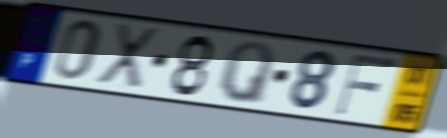0: (51, 17, 103, 84)
8: (288, 49, 338, 112), (170, 33, 214, 97)
F: (332, 53, 401, 118)
Q: (216, 39, 277, 108)
X: (93, 21, 162, 94)
